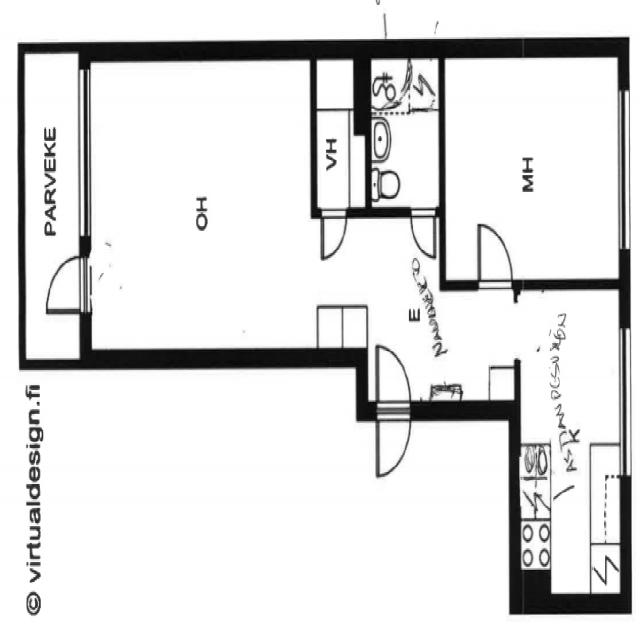door: (372, 335, 413, 476), (471, 218, 516, 292), (44, 250, 94, 314), (374, 402, 411, 483), (407, 204, 439, 262), (318, 205, 349, 261)
window: (68, 56, 97, 247), (612, 84, 638, 259), (617, 320, 639, 490)
zone: (87, 55, 316, 358), (441, 49, 625, 282), (517, 281, 625, 603), (368, 54, 442, 214), (315, 54, 363, 212)
